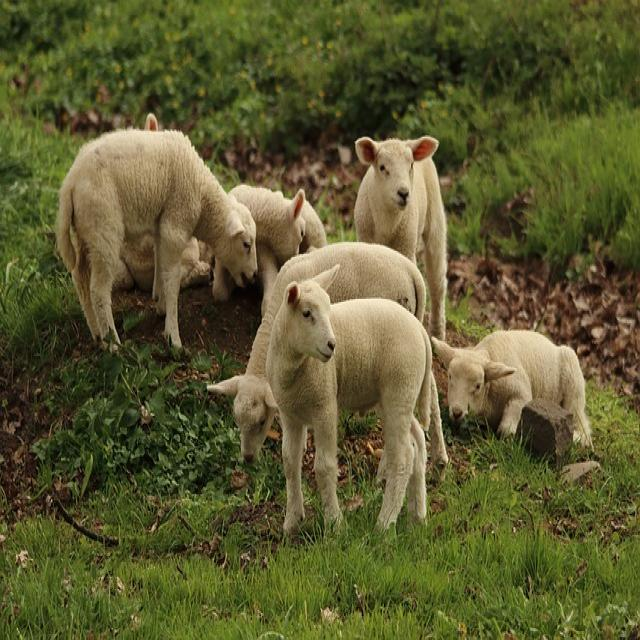goat: (214, 242, 427, 464), (54, 128, 260, 355), (265, 279, 448, 533), (435, 331, 594, 463), (354, 137, 448, 343), (228, 185, 328, 296)
